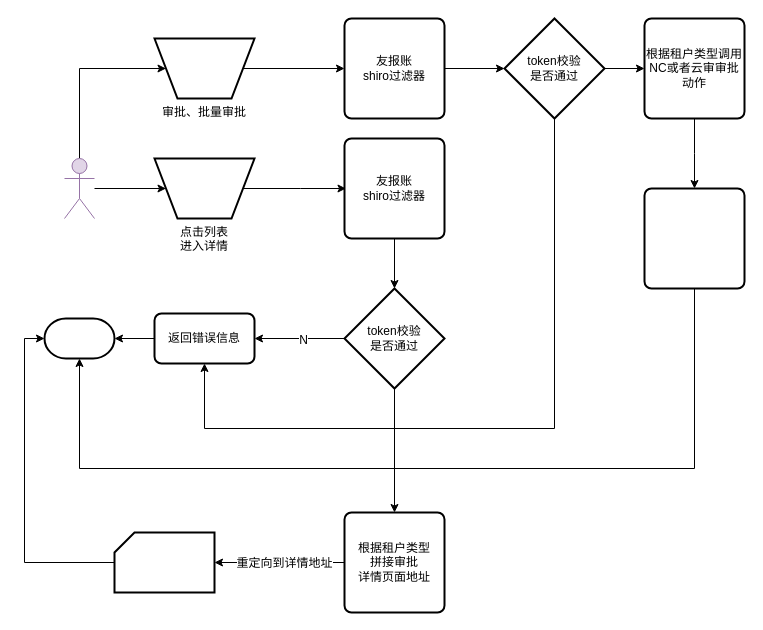
Image size: 763x630. Some labels were removed from this diagram. Each missing label, with the centre of its shape:
"End" belongs at [79,338].
"友空间客户端" belongs at [164,562].
"用户" belongs at [79,188].
"跳转到 审批中心 列表地址 callbackurl 并附带审批结果状态" belongs at [694,238].
